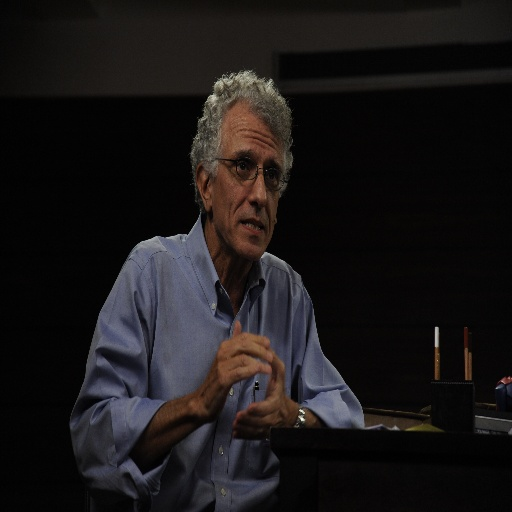hand: (195, 320, 273, 423), (237, 332, 300, 440)
